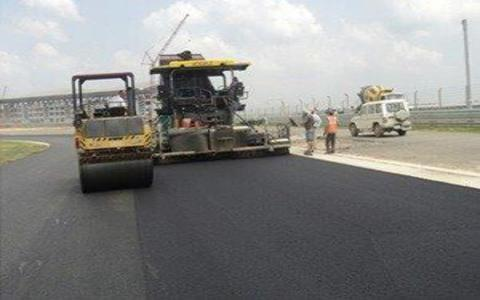Proper road: (172, 164, 459, 295)
